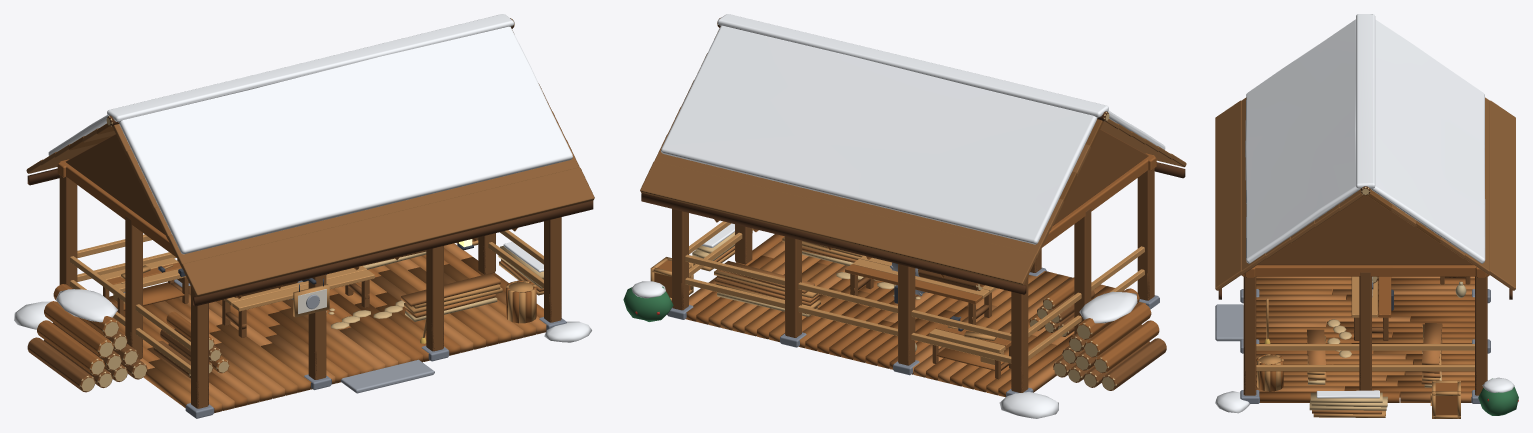
File: sawmill.glb
3 renders of one model, left to right at view 1: azimuth 30°, elevation 25°; view 2: azimuth 150°, elevation 25°; view 3: azimuth 270°, elevation 25°, orthographic. The views are drawn at different scales.
Parts seen in each view (by area): view 1: roof, floor, walls, interior, exterior, walls_low; view 2: roof, walls, floor, exterior, interior, walls_low; view 3: roof, floor, walls, interior, exterior, walls_low.
Part boxes in pixels (left/top/right/bottom): roof: left=26, top=14, right=594, bottom=306; floor: left=112, top=243, right=546, bottom=413; walls: left=57, top=159, right=566, bottom=418; interior: left=100, top=250, right=536, bottom=378; exterior: left=14, top=239, right=591, bottom=392; walls_low: left=59, top=238, right=561, bottom=407; roof: left=640, top=14, right=1186, bottom=294; walls: left=667, top=153, right=1159, bottom=396; floor: left=685, top=234, right=1145, bottom=397; exterior: left=623, top=223, right=1166, bottom=418; interior: left=714, top=237, right=1094, bottom=379; walls_low: left=674, top=229, right=1154, bottom=392; roof: left=1215, top=14, right=1515, bottom=299; floor: left=1215, top=276, right=1474, bottom=402; walls: left=1240, top=265, right=1490, bottom=403; interior: left=1257, top=276, right=1470, bottom=391; exterior: left=1215, top=377, right=1518, bottom=418; walls_low: left=1244, top=369, right=1484, bottom=394.
Size of the model in its own units: 8.27 by 4.43 by 5.26.
